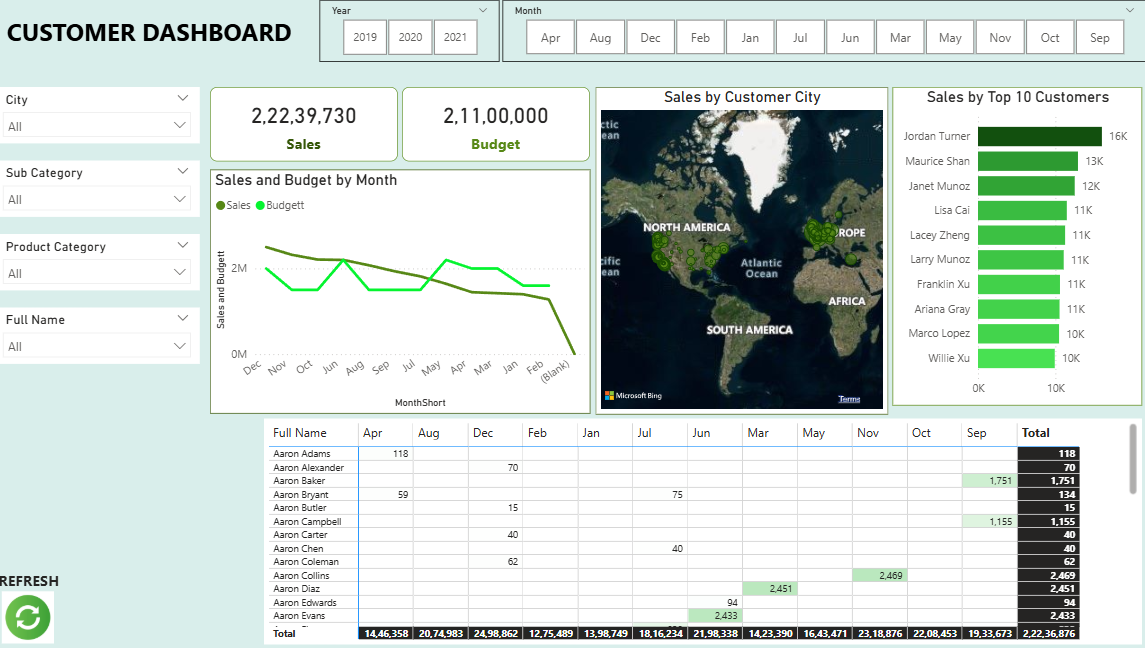

What the dashboard file says about the page in this screenshot:
{"tool":"powerbi","page":{"name":"CUSTOMER","canvas":[1280,720],"ordinal":2},"visuals":[{"type":"textbox","box":[0,11,344.8,57.5],"z":0},{"type":"slicer","fields":{"Values":["DIM_Calendar.Year"]},"box":[361.2,0,200,68.8],"z":1000},{"type":"slicer","fields":{"Values":["DIM_Calendar.MonthShort"]},"box":[564.9,0,715.4,68.5],"z":2000},{"type":"slicer","fields":{"Values":["DIM_Customers.Customer City"]},"box":[0,96.8,228.7,62.4],"z":3000},{"type":"slicer","fields":{"Values":["DIM_Products.Sub Category"]},"box":[0,178.8,228.7,62.4],"z":4000},{"type":"slicer","fields":{"Values":["DIM_Products.Product Category"]},"box":[0,260.7,228.7,62.4],"z":5000},{"type":"slicer","fields":{"Values":["DIM_Customers.Full Name"]},"box":[0,341.4,228.7,62.4],"z":6000},{"type":"lineChart","title":"Sales and Budget by Month","fields":{"Category":["DIM_Calendar.MonthShort"],"Y":["Metrics.Sales","Metrics.Budgett"]},"box":[240,188.8,422.5,271.2],"z":7000},{"type":"image","box":[0,651.7,75,68.3],"z":8000},{"type":"textbox","box":[0,627.5,228.8,32.5],"z":9000},{"type":"card","fields":{"Values":["Metrics.Sales"]},"box":[240,96.2,208.8,82.5],"z":10000},{"type":"card","fields":{"Values":["Metrics.Budgett"]},"box":[453.8,96.2,208.8,82.5],"z":11000},{"type":"pivotTable","fields":{"Values":["Metrics.Sales"],"Rows":["DIM_Customers.Full Name"],"Columns":["DIM_Calendar.MonthShort"]},"box":[300,465,975,250],"z":12000},{"type":"map","fields":{"Category":["DIM_Customers.Customer City"],"Size":["Metrics.Sales"]},"box":[667.5,96.2,325,363.8],"z":13000},{"type":"barChart","title":"Sales by Top 10 Customers","fields":{"Category":["DIM_Customers.Full Name"],"Y":["Metrics.Sales"]},"box":[997.5,96.2,277.5,353.8],"z":14000}]}

Visuals, with their boxes in screenshot pixels (x1, y1, x2, y2), scaled from the page's 1280x720 canvas onto the 1145x648 screenshot:
textbox: x1=0 y1=10 x2=308 y2=62
slicer - DIM_Calendar.Year: x1=323 y1=0 x2=502 y2=62
slicer - DIM_Calendar.MonthShort: x1=505 y1=0 x2=1144 y2=62
slicer - DIM_Customers.Customer City: x1=0 y1=87 x2=205 y2=143
slicer - DIM_Products.Sub Category: x1=0 y1=161 x2=205 y2=217
slicer - DIM_Products.Product Category: x1=0 y1=235 x2=205 y2=291
slicer - DIM_Customers.Full Name: x1=0 y1=307 x2=205 y2=363
"Sales and Budget by Month" lineChart: x1=215 y1=170 x2=593 y2=414
image: x1=0 y1=587 x2=67 y2=647
textbox: x1=0 y1=565 x2=205 y2=594
card - Metrics.Sales: x1=215 y1=87 x2=401 y2=161
card - Metrics.Budgett: x1=406 y1=87 x2=593 y2=161
pivotTable - Metrics.Sales x DIM_Customers.Full Name: x1=268 y1=418 x2=1141 y2=644
map - DIM_Customers.Customer City x Metrics.Sales: x1=597 y1=87 x2=888 y2=414
"Sales by Top 10 Customers" barChart: x1=892 y1=87 x2=1141 y2=405
